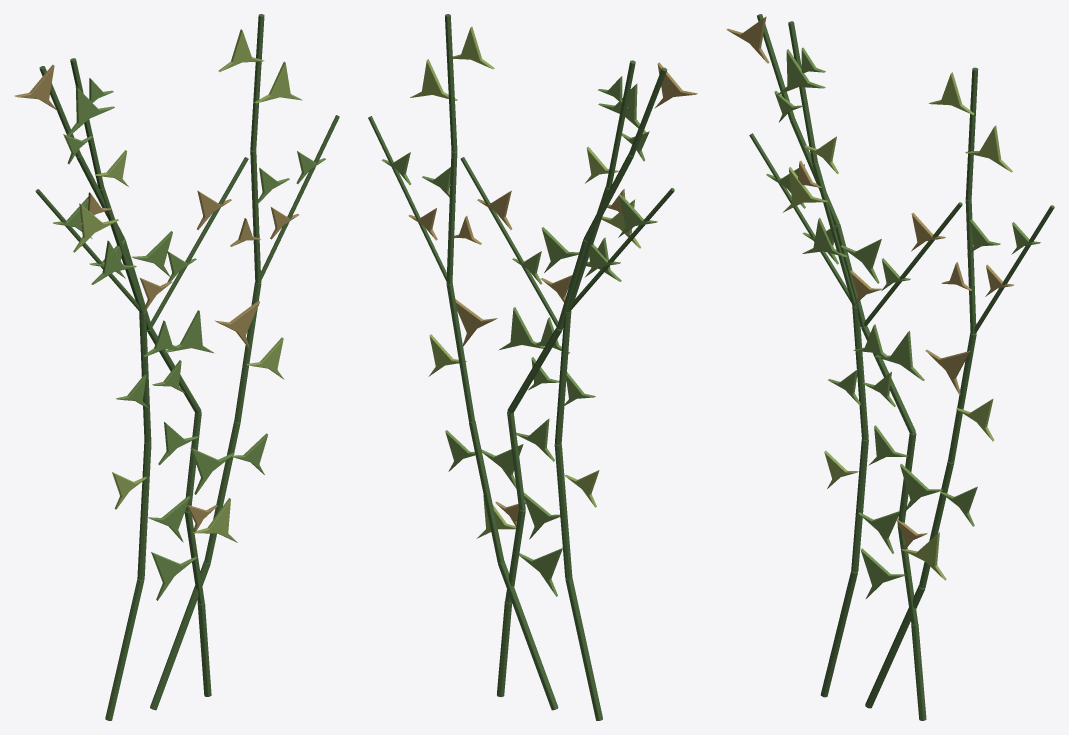
Rendered from runtime.glb.
3 views of the same model, side by side, from view 1: azimuth 30°, elevation 25°; view 2: azimuth 150°, elevation 25°; view 3: azimuth 330°, elevation 25° (orthographic).
Visible parts, largest first — view 1: falkenwacht-wall-ivy-v03_nocol; view 2: falkenwacht-wall-ivy-v03_nocol; view 3: falkenwacht-wall-ivy-v03_nocol.
Boxes of the visible parts, x1,y1,x2,y2 form: falkenwacht-wall-ivy-v03_nocol: [14, 14, 339, 720]; falkenwacht-wall-ivy-v03_nocol: [368, 14, 697, 720]; falkenwacht-wall-ivy-v03_nocol: [726, 14, 1054, 720].
Bounding box in the file's own units: 2.24 × 4.39 × 0.0847.
